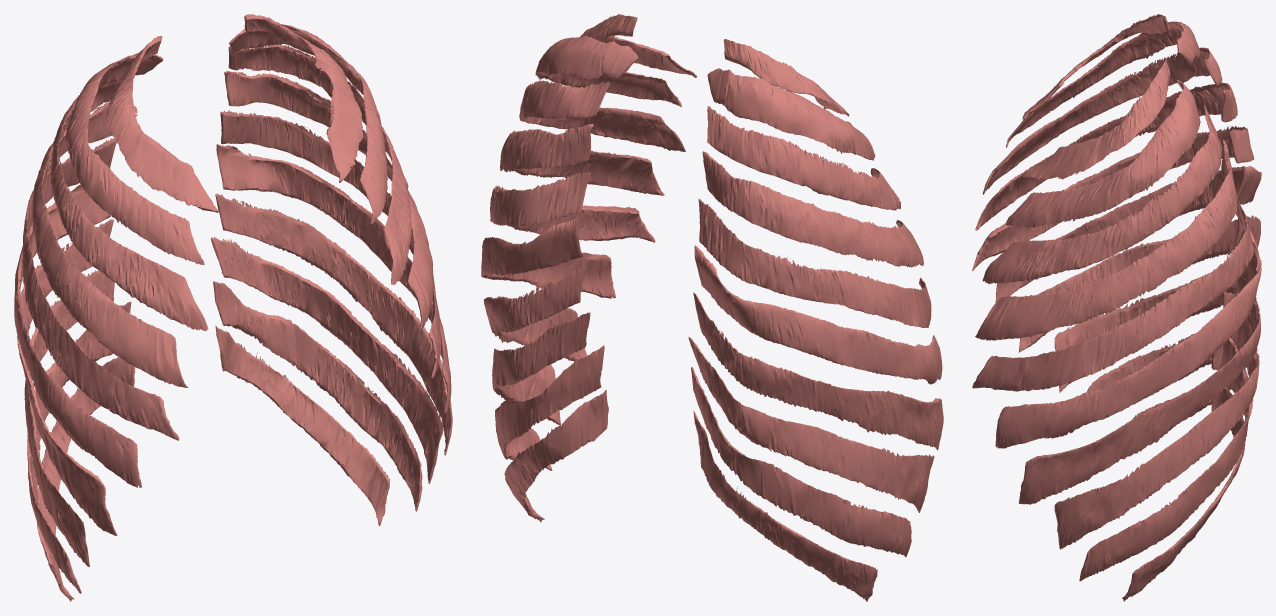
File: fma9756_cx298.glb
3 renders of one model, left to right at view 1: azimuth 30°, elevation 25°; view 2: azimuth 150°, elevation 25°; view 3: azimuth 270°, elevation 25°, orthographic. The views are drawn at different scales.
Parts seen in each view (by area): view 1: FMA9756_CX298; view 2: FMA9756_CX298; view 3: FMA9756_CX298.
Part boxes in pixels (<box>): FMA9756_CX298: <box>14,14,452,601</box>; FMA9756_CX298: <box>481,14,943,601</box>; FMA9756_CX298: <box>972,14,1261,601</box>.
Size of the model in its own units: 0.2722 by 0.3539 by 0.1884.
